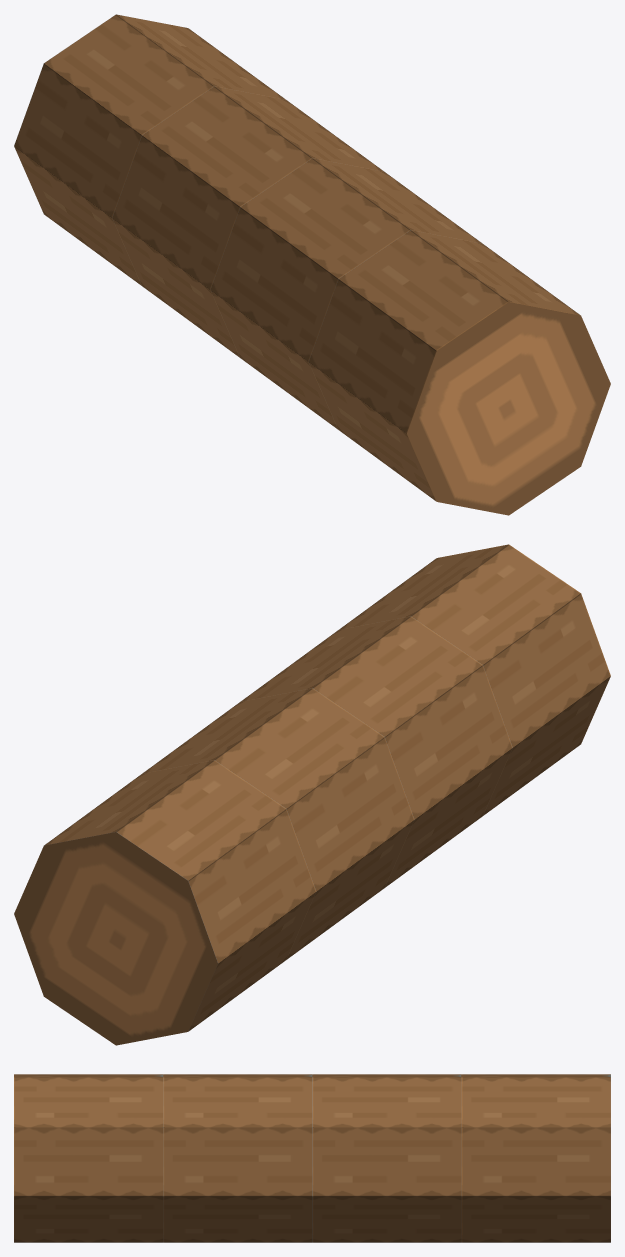
File: log.obj
3 views of the same model, one above another, from view 1: azimuth 30°, elevation 25°; view 2: azimuth 150°, elevation 25°; view 3: azimuth 270°, elevation 25° (orthographic). The views are drawn at different scales.
Visible parts, largest first — view 1: Cylinder; view 2: Cylinder; view 3: Cylinder.
Boxes of the visible parts, left/top/right/bottom form: Cylinder: left=14, top=14, right=610, bottom=515; Cylinder: left=14, top=544, right=610, bottom=1045; Cylinder: left=14, top=1074, right=610, bottom=1242.
Size of the model in its own units: 0.27 by 0.27 by 0.9.
Materials: 1 (1 with a texture image).
